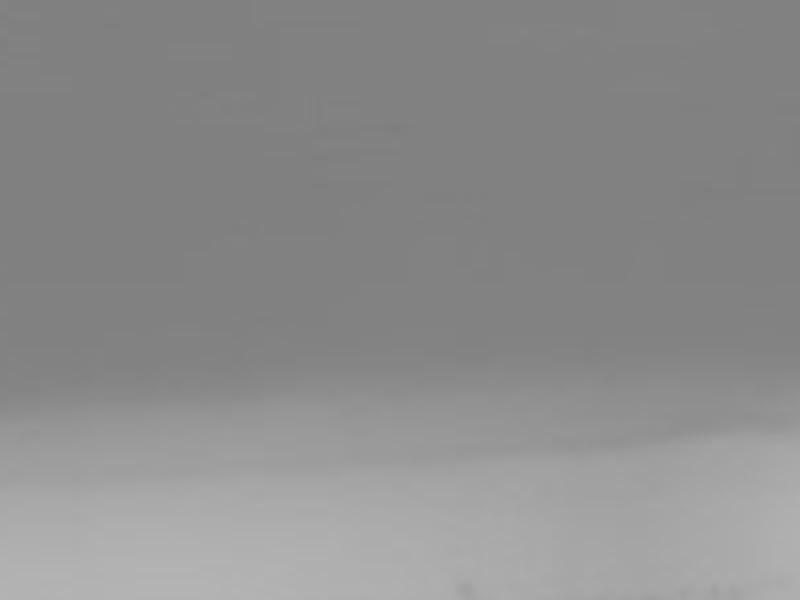defect: (457, 579, 476, 597), (705, 584, 717, 600)
